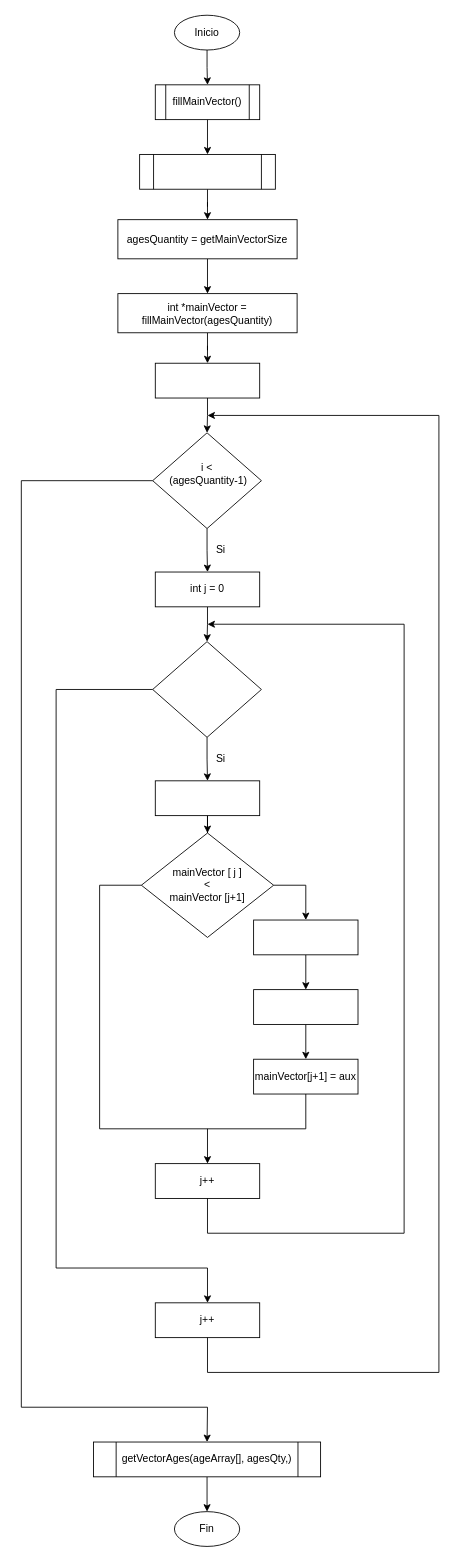
Image size: 461x1562. Some labels were removed from this diagram. Here are the shapes that lost their labels. From the top down, the box of each, then its label:
(139, 154, 275, 189): getMainVectorSize()
(154, 362, 260, 398): int i = 0
(152, 641, 261, 737): j < (agesQuantity-1)
(154, 780, 260, 816): Aux = 0
(253, 919, 358, 955): Aux = mainVector[j+1]
(253, 989, 358, 1024): mainVector[j] = mainVector[j+1]
